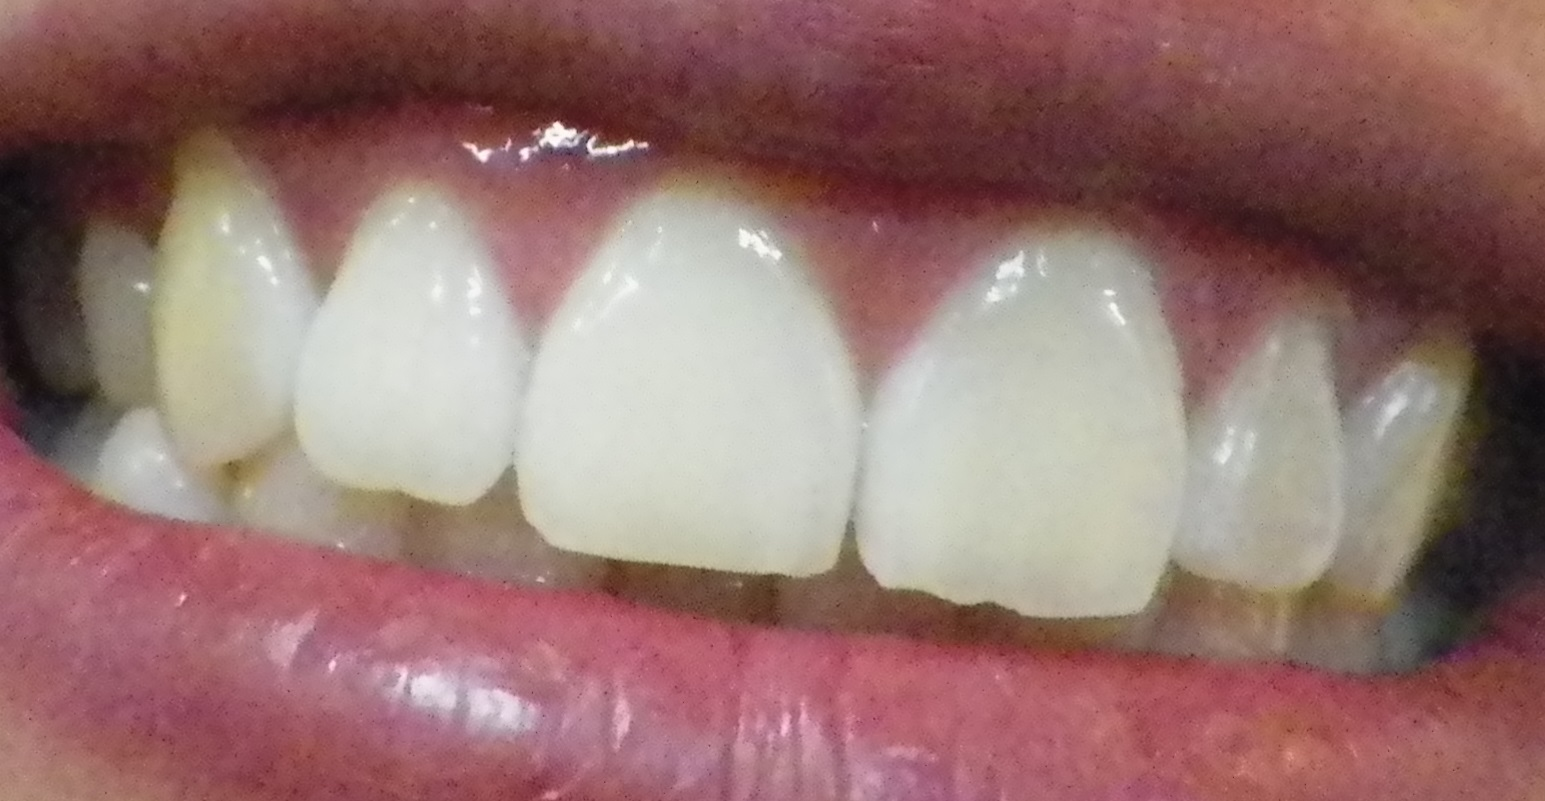boca: (14, 126, 1472, 676)
